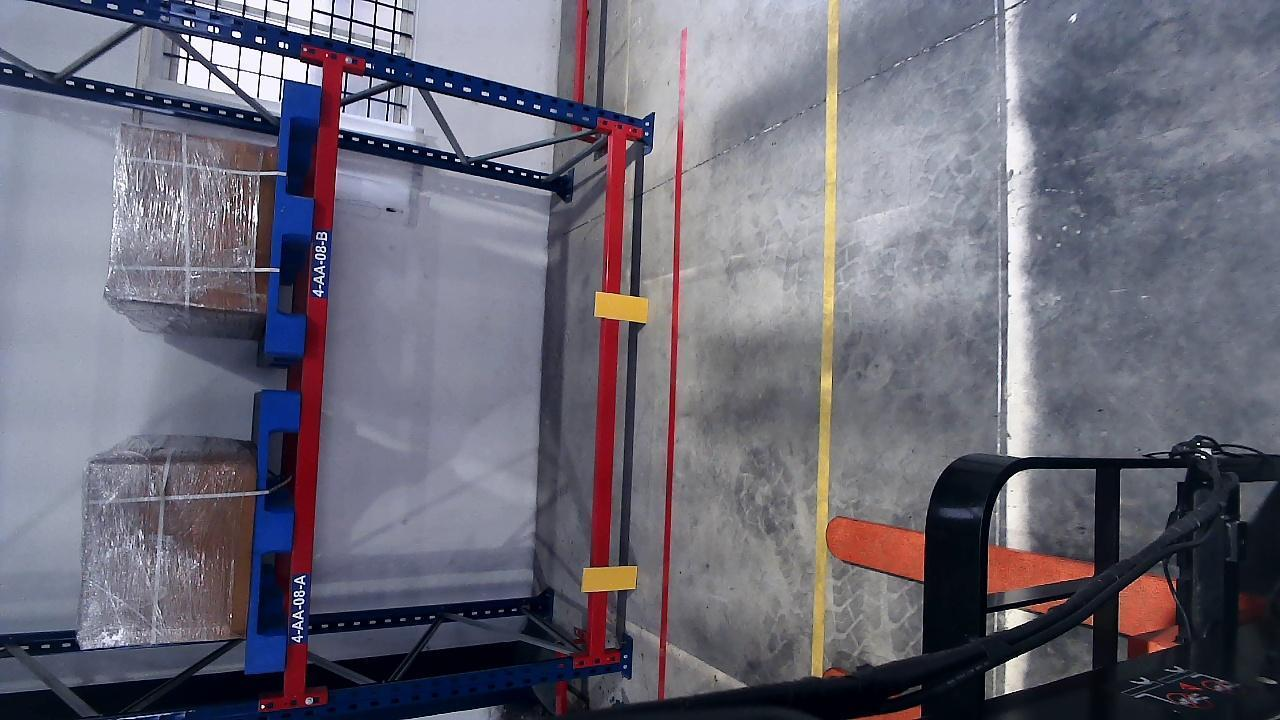red_line: (657, 22, 688, 695)
yellow_line: (812, 0, 838, 681)
